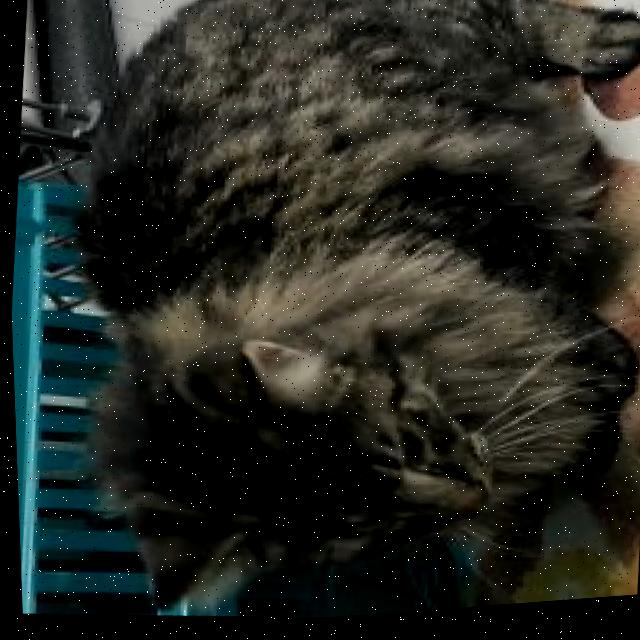Maine Coon: (38, 0, 640, 638)
